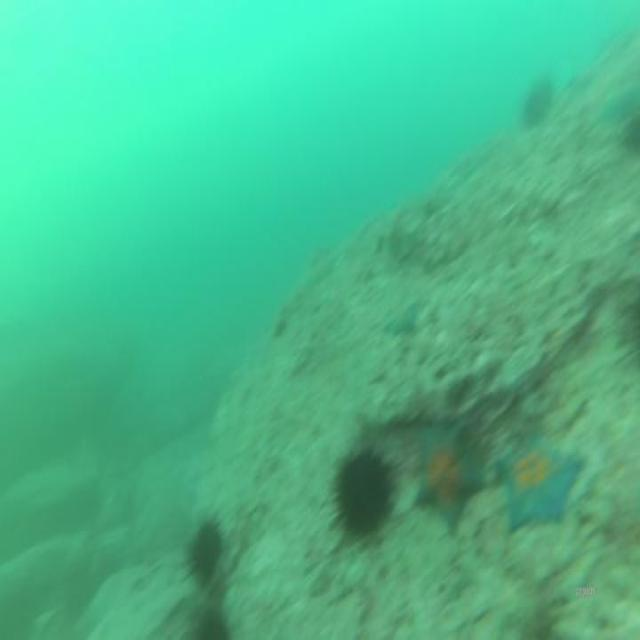echinus: (324, 438, 402, 545), (182, 507, 226, 594), (522, 74, 554, 136)
starfish: (412, 419, 492, 540), (500, 427, 585, 537), (382, 299, 421, 341)
